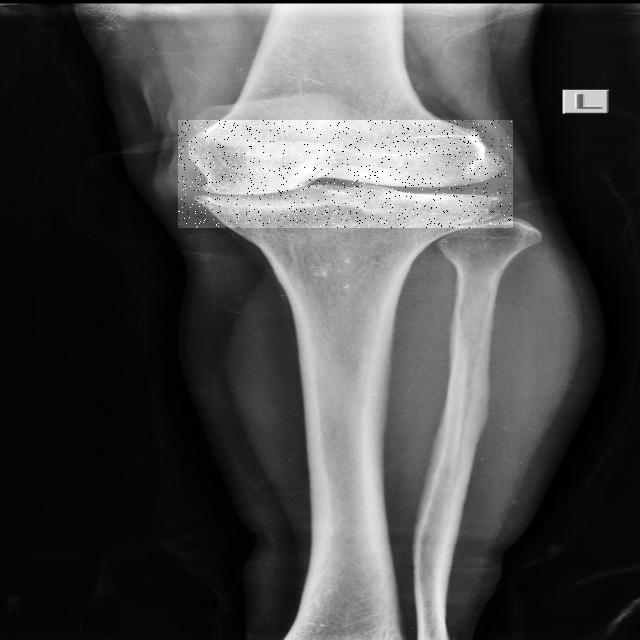normal: (178, 120, 513, 228)
